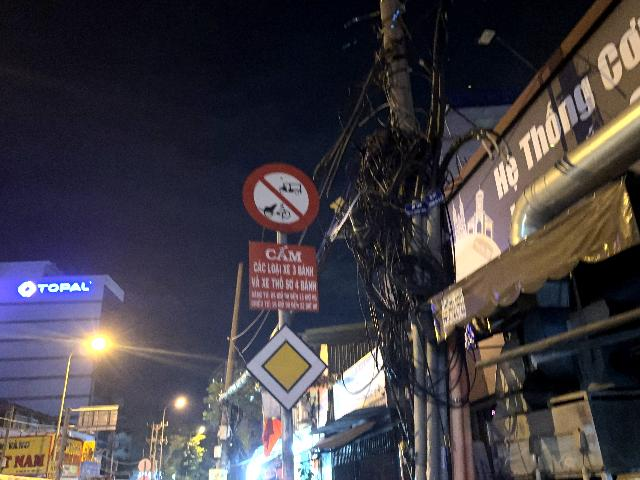bat-dau-duong-uu-tien: (244, 322, 327, 412)
cam-xe-3-banh-xe-tho-so-4-banh: (242, 163, 319, 233)
